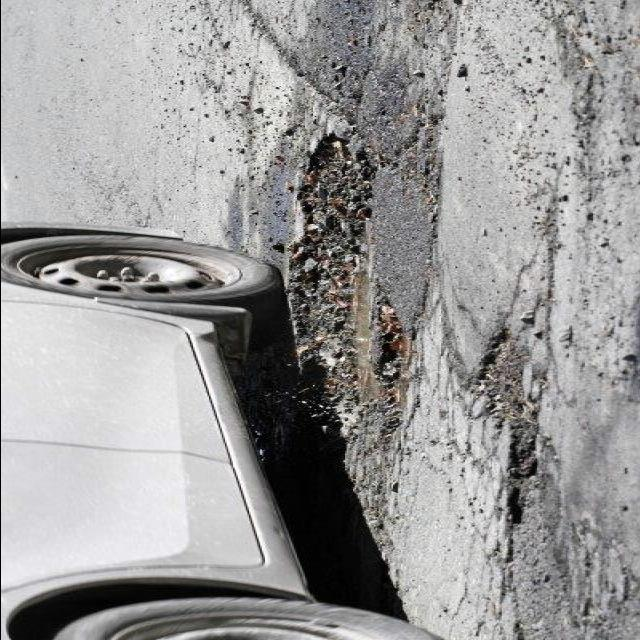jalan retak: (444, 328, 534, 638), (165, 0, 291, 146), (499, 511, 640, 638), (471, 165, 578, 329), (532, 0, 638, 134), (115, 186, 169, 232)
lubang: (259, 128, 411, 461), (457, 296, 567, 532)
